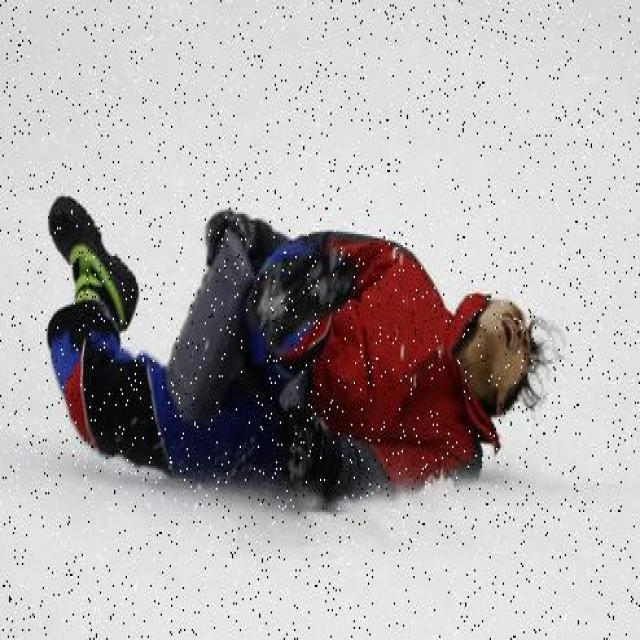fall: (52, 183, 552, 525)
